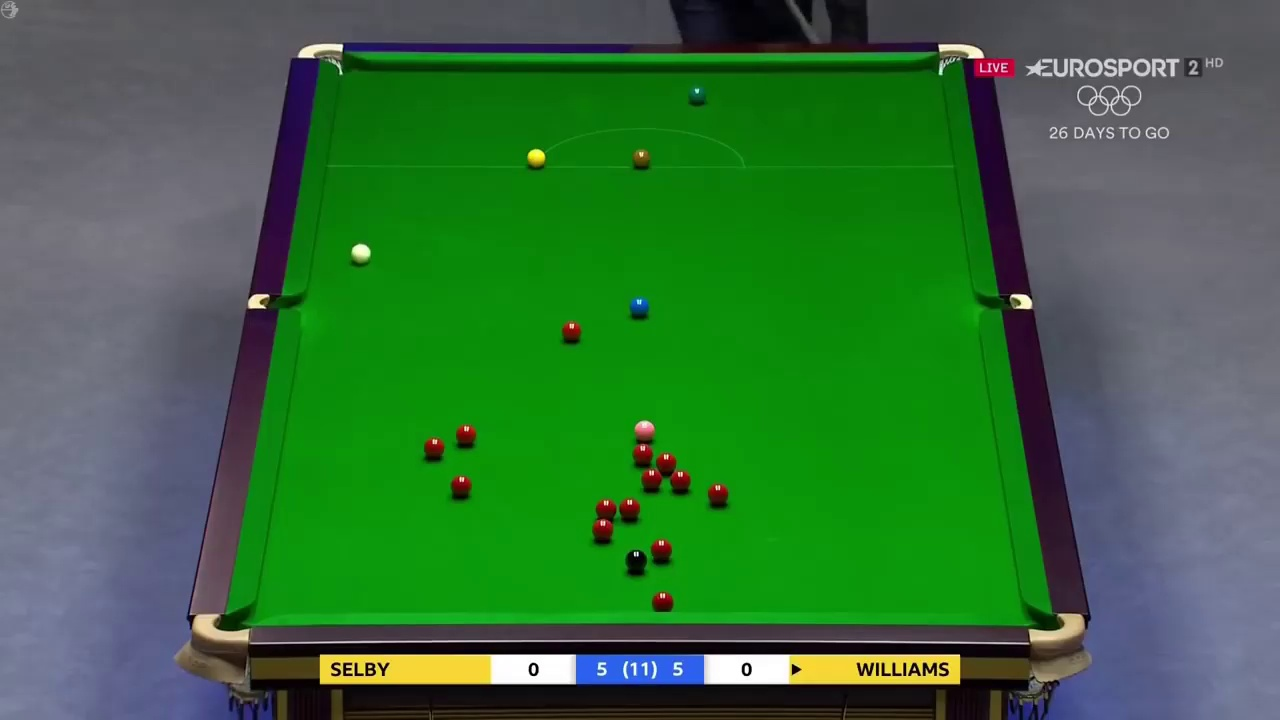ball: (623, 551, 647, 577), (589, 516, 615, 539), (707, 481, 729, 506), (649, 535, 671, 559), (633, 420, 657, 441), (347, 244, 370, 264), (560, 319, 583, 339), (450, 473, 469, 497), (620, 495, 639, 519), (422, 437, 445, 456), (455, 425, 476, 445), (525, 148, 544, 168), (630, 147, 649, 167), (629, 294, 648, 314), (685, 87, 705, 106), (672, 469, 690, 488)
